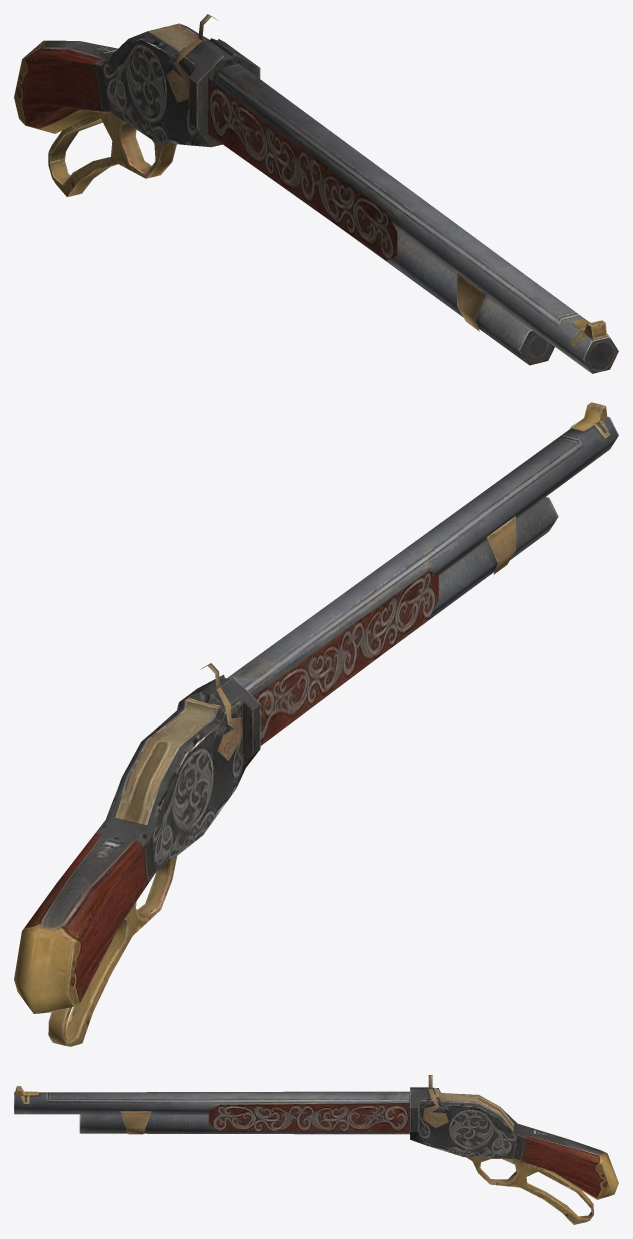
The model's file is Shotgun_sdq_02_lod2_Body_LOD_(000244).glb.
The picture shows the model from 3 angles, top to bottom: view 1: azimuth 30°, elevation 25°; view 2: azimuth 150°, elevation 25°; view 3: azimuth 270°, elevation 25°; orthographic projection. The views are drawn at different scales.
Parts seen in each view (by area): view 1: sdq_02_lod2; view 2: sdq_02_lod2; view 3: sdq_02_lod2.
Boxes of the visible parts, x1,y1,x2,y2 form: sdq_02_lod2: [14, 14, 618, 373]; sdq_02_lod2: [14, 402, 618, 1046]; sdq_02_lod2: [14, 1075, 618, 1224].
Size of the model in its own units: 0.0919 by 0.3855 by 1.43.
Materials: 1 (1 with a texture image).
